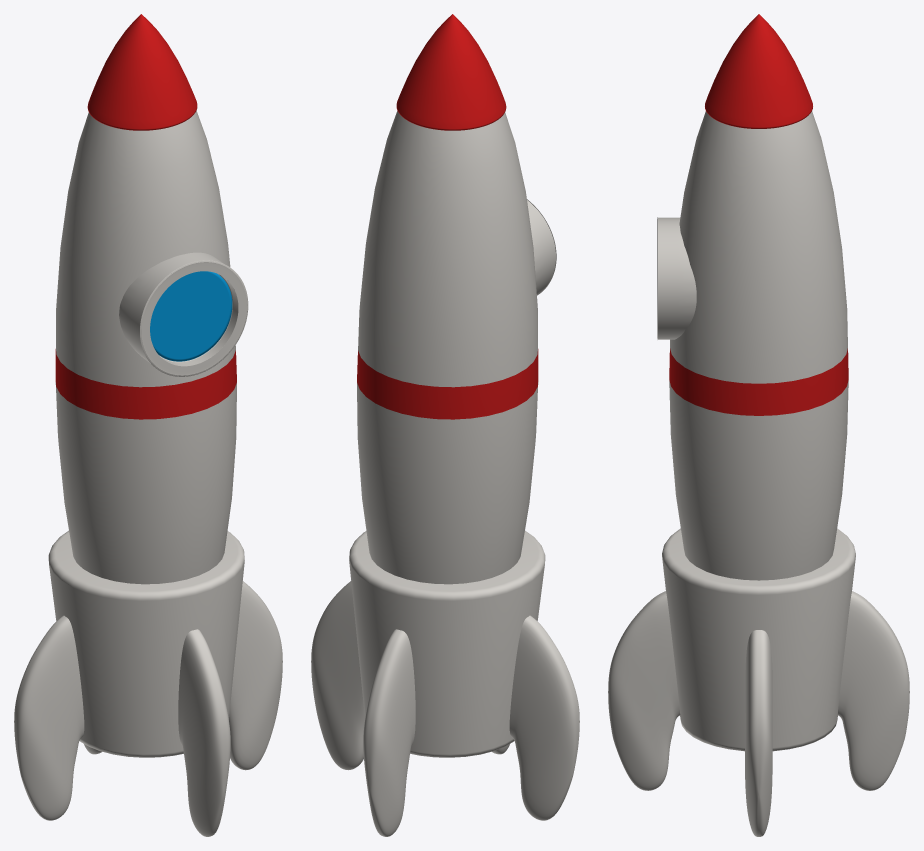
File: rocket.glb
The picture shows the model from 3 angles, left to right: view 1: azimuth 30°, elevation 25°; view 2: azimuth 150°, elevation 25°; view 3: azimuth 270°, elevation 25°; orthographic projection.
Parts seen in each view (by area): view 1: Sphere_10, Cylinder.001_9, Cylinder_8, Cube.002_6, Cone_3, Cube.003_7, Cube_4; view 2: Sphere_10, Cylinder.001_9, Cube.002_6, Cone_3, Cube.001_5, Cube_4, Cylinder_8; view 3: Sphere_10, Cylinder.001_9, Cube.001_5, Cube.003_7, Cone_3, Cube_4, Cylinder_8.
Boxes of the visible parts, x1,y1,x2,y2 form: Sphere_10: (55, 111, 236, 584); Cylinder.001_9: (48, 530, 244, 757); Cylinder_8: (119, 252, 248, 376); Cube.002_6: (14, 615, 84, 820); Cone_3: (87, 14, 197, 130); Cube.003_7: (178, 629, 230, 836); Cube_4: (229, 581, 282, 770); Sphere_10: (357, 111, 538, 584); Cylinder.001_9: (349, 530, 545, 757); Cube.002_6: (509, 615, 579, 820); Cone_3: (396, 14, 506, 130); Cube.001_5: (363, 629, 415, 836); Cube_4: (311, 581, 364, 770); Cylinder_8: (527, 199, 556, 295); Sphere_10: (669, 111, 848, 580); Cylinder.001_9: (662, 528, 855, 751); Cube.001_5: (837, 591, 909, 790); Cube.003_7: (608, 591, 680, 790); Cone_3: (705, 14, 812, 128); Cube_4: (745, 630, 772, 836); Cylinder_8: (657, 217, 696, 339).
Bounding box in the file's own units: 1.76 × 4.98 × 1.76.
